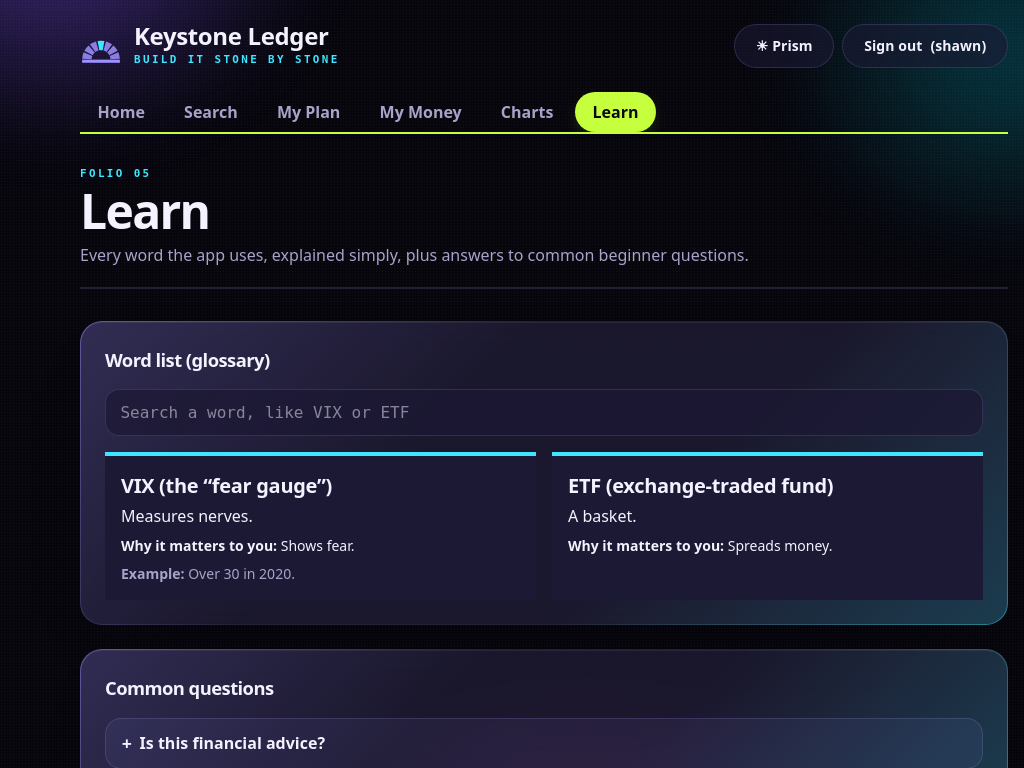
Scenario: Learn › searches the glossary and explains pending links
Expected: the text "VIX (the “fear gauge”)" is shown, [121,472,332,499]
Type "basket" into the field named "Search the word list" at coordinates (544, 413), box [105,389,983,436]
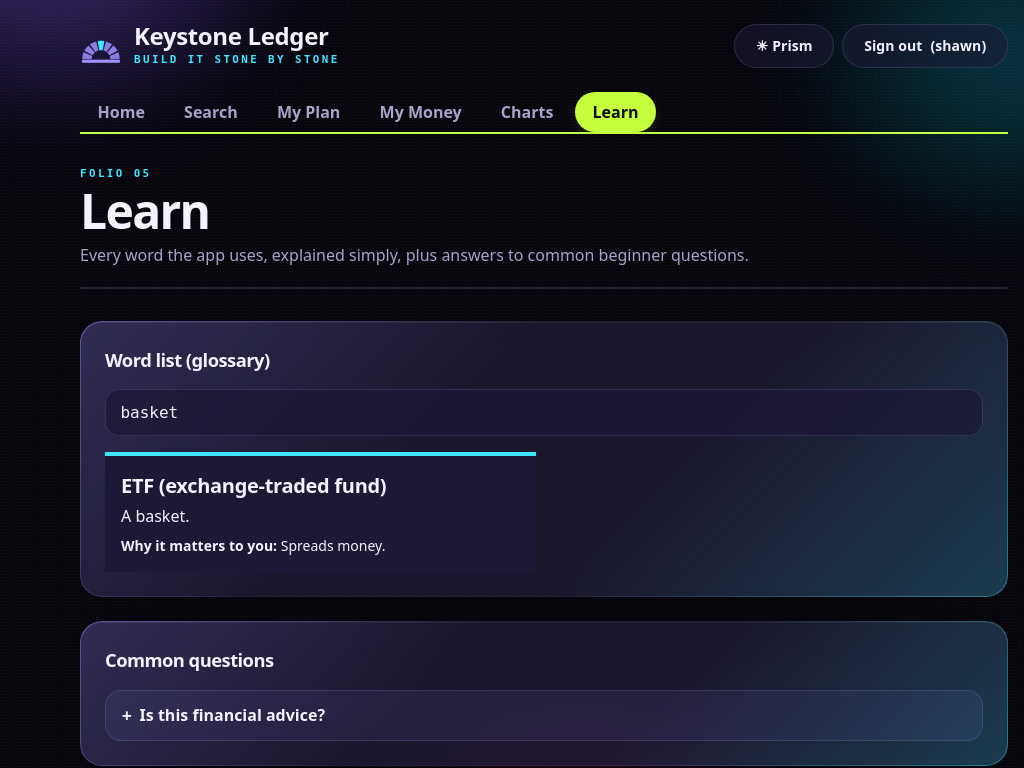
Expected: the text "ETF (exchange-traded fund)" is shown, [121,472,386,499]
Now the text "VIX (the “fear gauge”)" is gone
